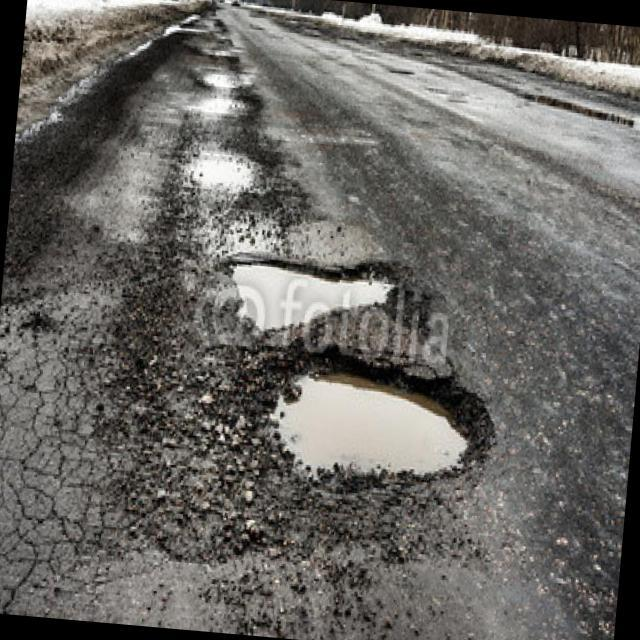Pothole: (231, 264, 449, 376), (271, 377, 467, 473), (188, 150, 253, 197), (192, 98, 236, 113), (203, 72, 244, 84)
